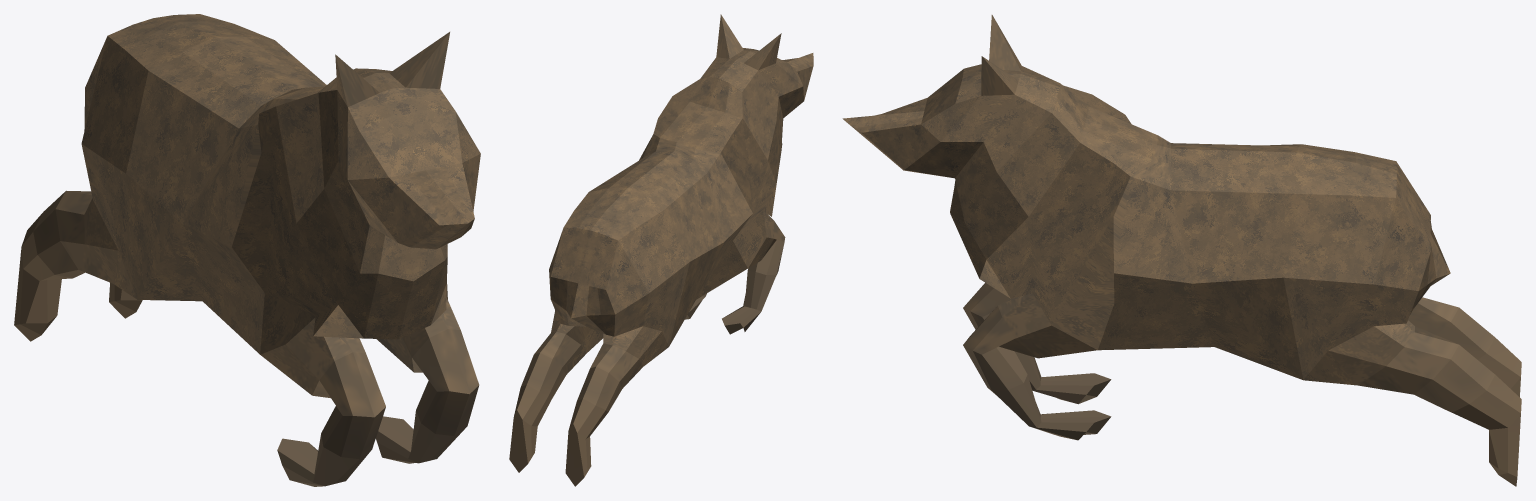
File: piesblend_000014.obj
3 renders of one model, left to right at view 1: azimuth 30°, elevation 25°; view 2: azimuth 150°, elevation 25°; view 3: azimuth 270°, elevation 25°, orthographic. The views are drawn at different scales.
Visible parts, largest first — view 1: Cube; view 2: Cube; view 3: Cube.
Boxes of the visible parts, x1,y1,x2,y2 form: Cube: (14,14,480,486); Cube: (509,14,813,486); Cube: (842,15,1521,486).
Size of the model in its own units: 2.56 by 6.73 by 9.68.
Materials: 1 (1 with a texture image).
